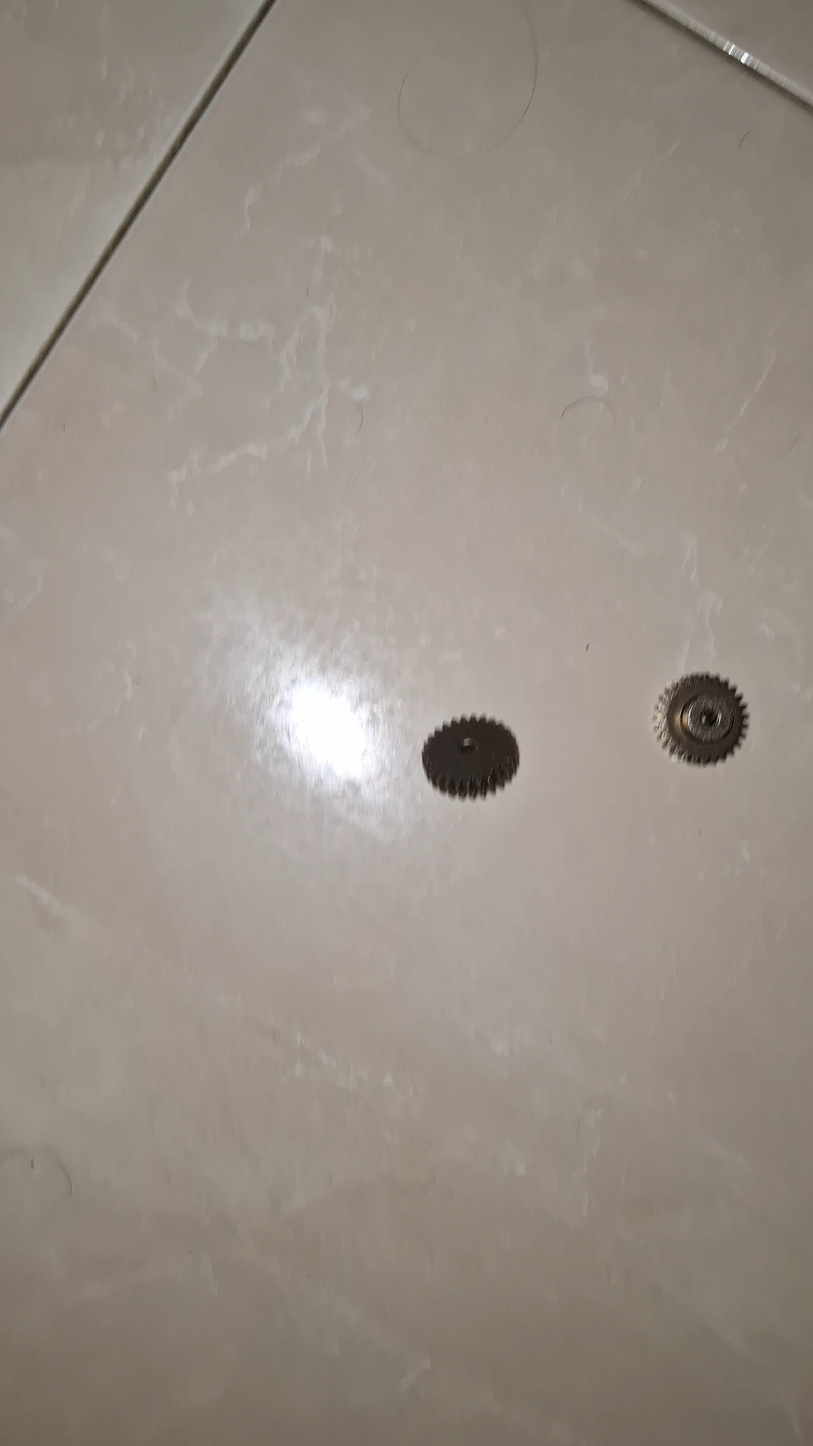spur gear: (654, 674, 748, 764), (422, 717, 519, 797)
